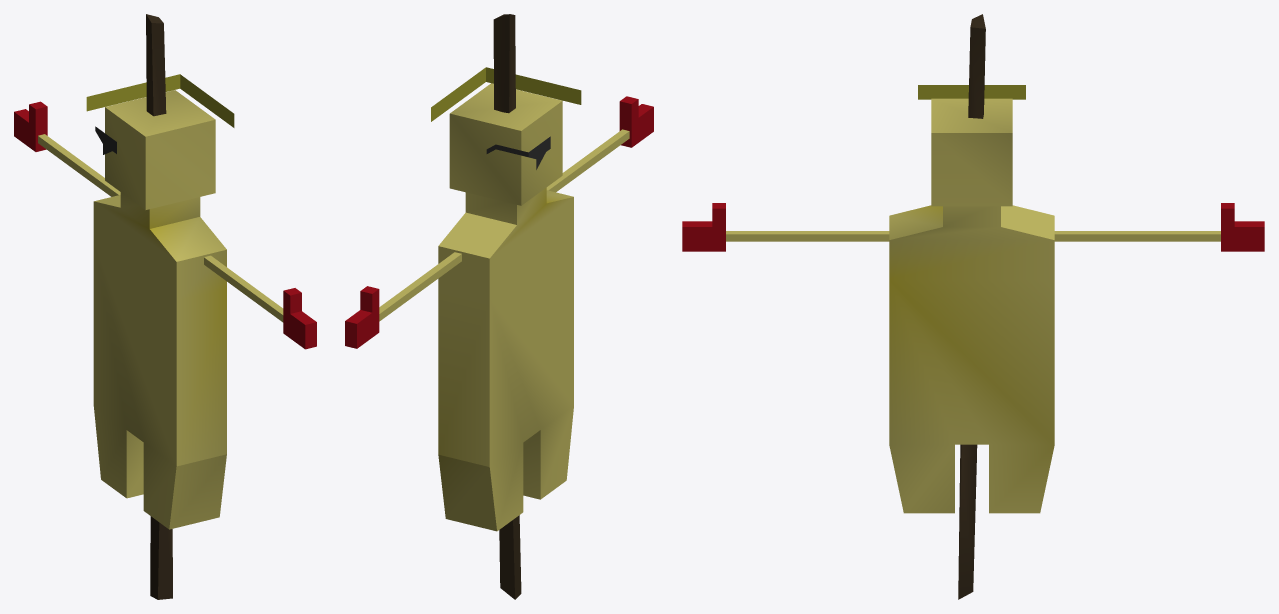
Rendered from scarecrow.glb.
3 renders of one model, left to right at view 1: azimuth 30°, elevation 25°; view 2: azimuth 150°, elevation 25°; view 3: azimuth 270°, elevation 25°, orthographic.
Visible parts, largest first — view 1: Cube.007, Stick.017, Soloma, Plane, Cube.009, Cube.008; view 2: Cube.007, Stick.017, Soloma, Plane, Cube.008, Cube.009, Cube.006; view 3: Cube.007, Stick.017, Soloma, Cube.008, Cube.009, Plane.
Part boxes in pixels (box(x1,y1,x2,y2)): Cube.007: box(93, 90, 226, 529); Stick.017: box(146, 14, 172, 599); Soloma: box(38, 134, 283, 322); Plane: box(86, 74, 234, 127); Cube.009: box(283, 288, 316, 349); Cube.008: box(14, 101, 47, 151); Cube.007: box(438, 83, 573, 531); Stick.017: box(493, 14, 521, 599); Soloma: box(379, 129, 629, 321); Plane: box(431, 67, 581, 121); Cube.008: box(345, 286, 379, 348); Cube.009: box(619, 96, 653, 147); Cube.006: box(486, 136, 550, 169); Cube.007: box(889, 98, 1054, 513); Stick.017: box(958, 14, 985, 599); Soloma: box(726, 231, 1220, 241); Cube.008: box(1221, 203, 1264, 251); Cube.009: box(682, 203, 725, 251); Plane: box(918, 85, 1025, 99).
Bounding box in the file's own units: 0.6955 × 2.36 × 2.16.
